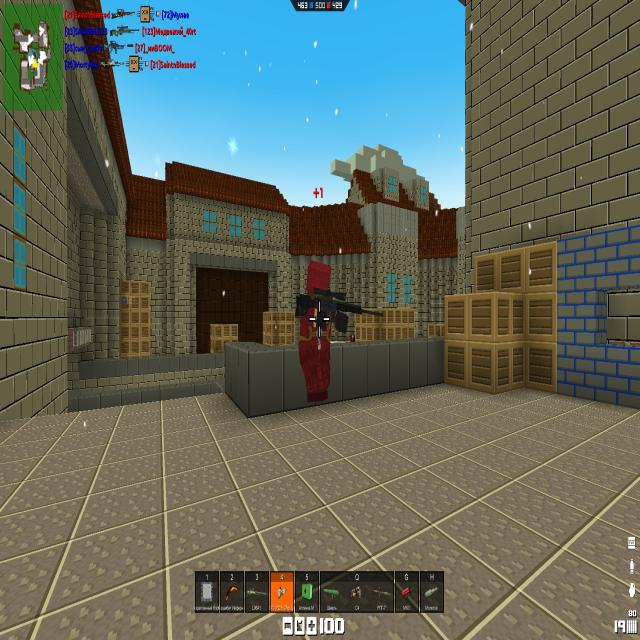player: (298, 262, 331, 406), (350, 334, 355, 342)
